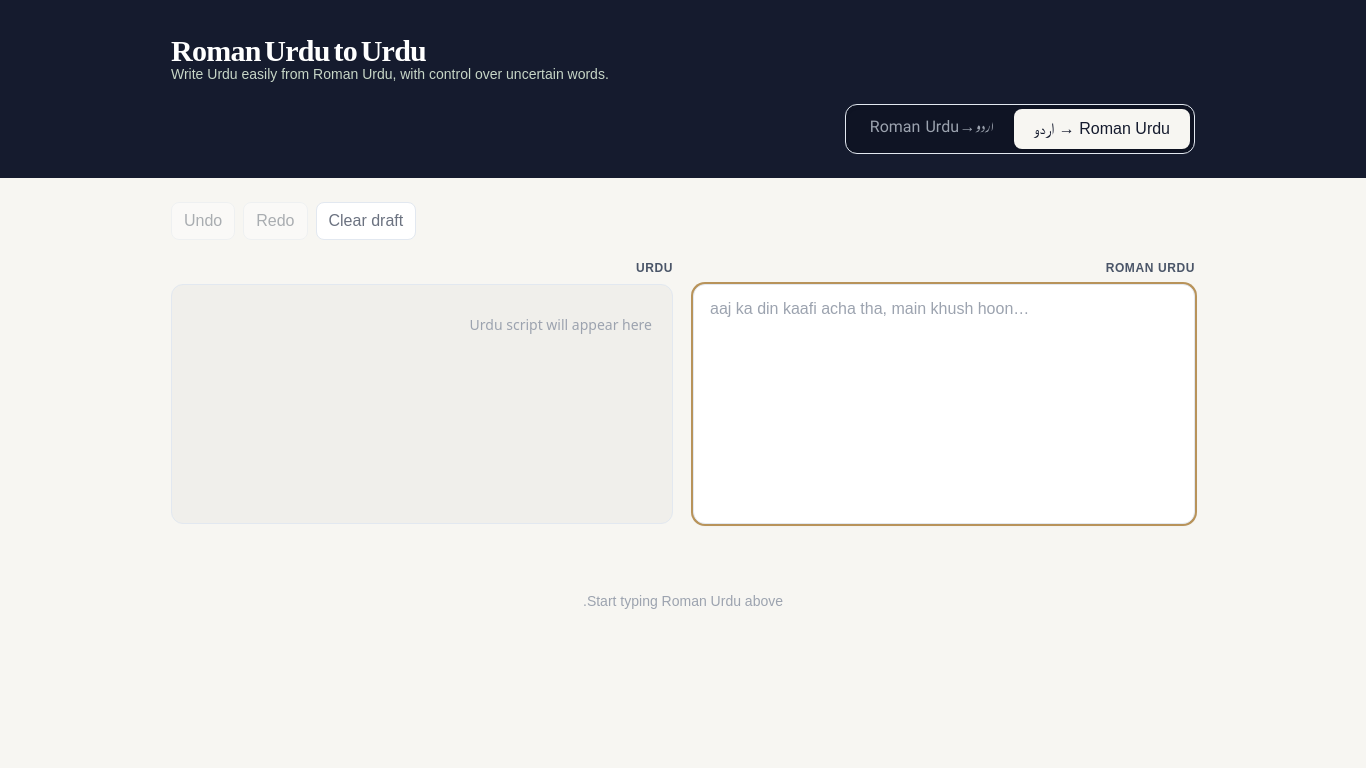
Test: 6. Urdu draft equals finalOutput after transfer
Type "main ghar gaya" into the text box with id "roman-input".
click(944, 404); type("main ghar gaya")  # box [693,284,1195,524]
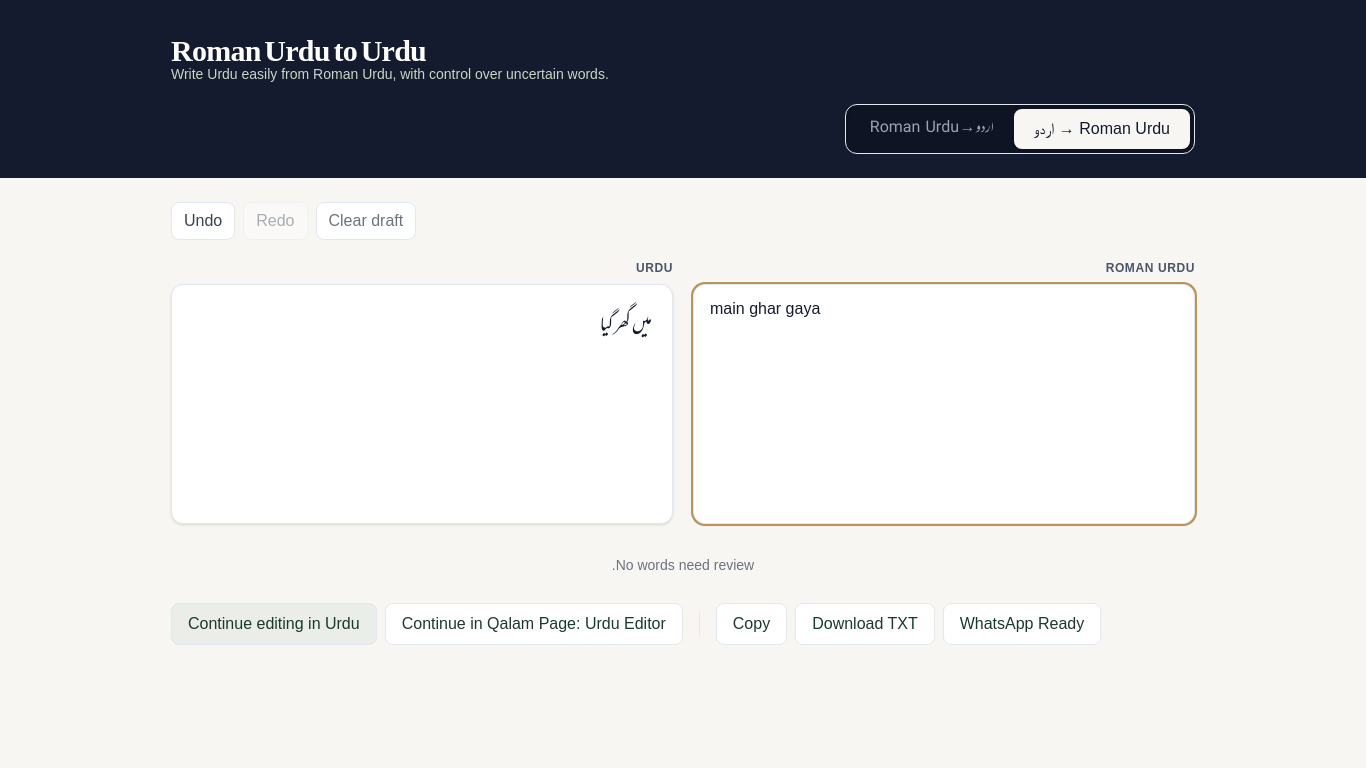
Click the button with test id "writer-continue-editing".
click(274, 624)  # box [171,603,377,645]
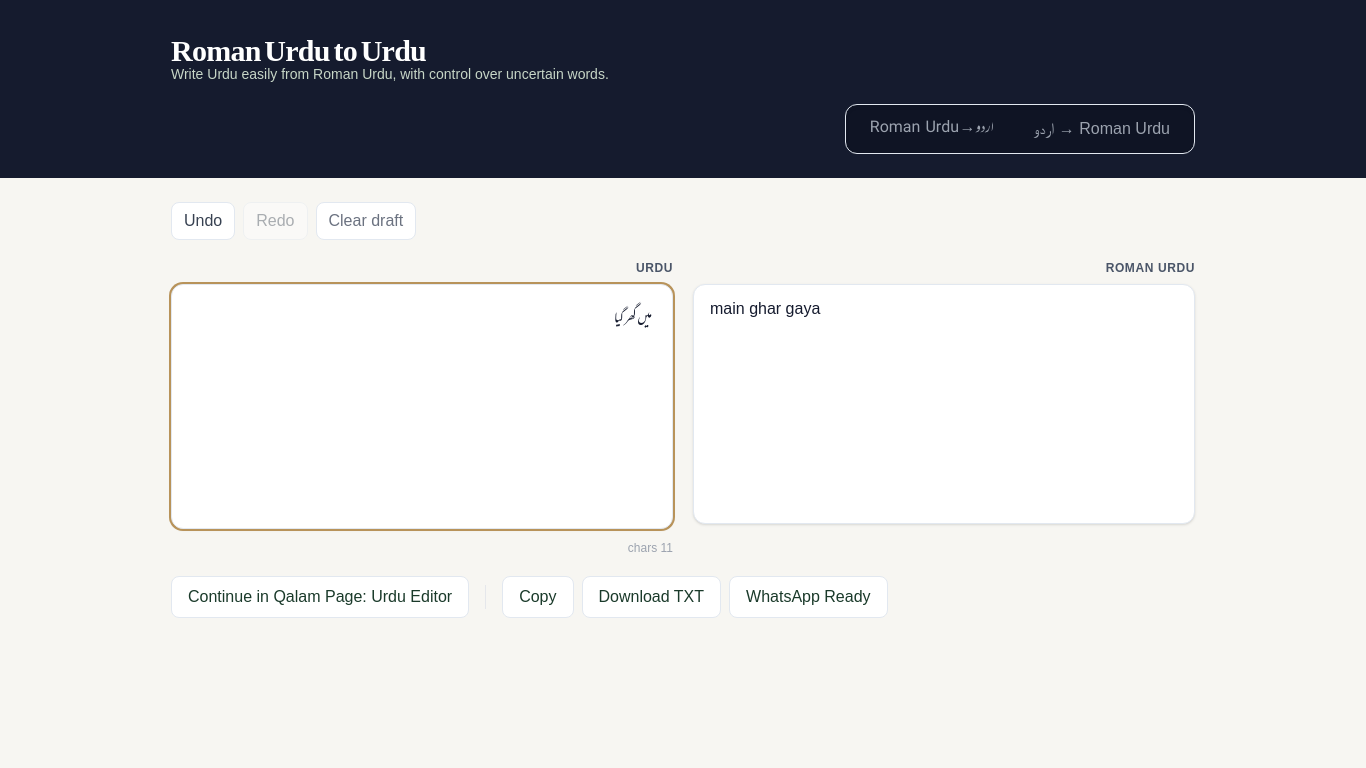
Expected: the text box with id "urdu-input" holds "میں گھر گیا", [171,284,673,529]
